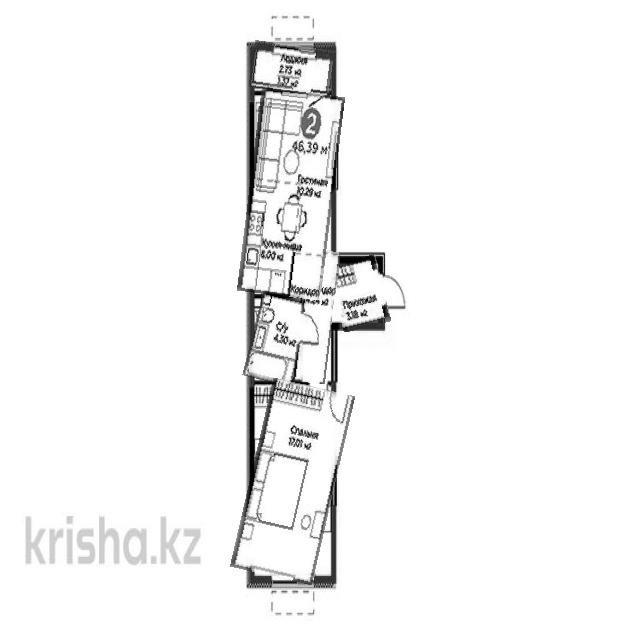balcony: (250, 42, 335, 95)
bathroom: (247, 292, 308, 385)
hallway: (296, 249, 337, 384), (331, 257, 388, 330)
living_room: (240, 382, 345, 582)
studio: (238, 88, 345, 296)
